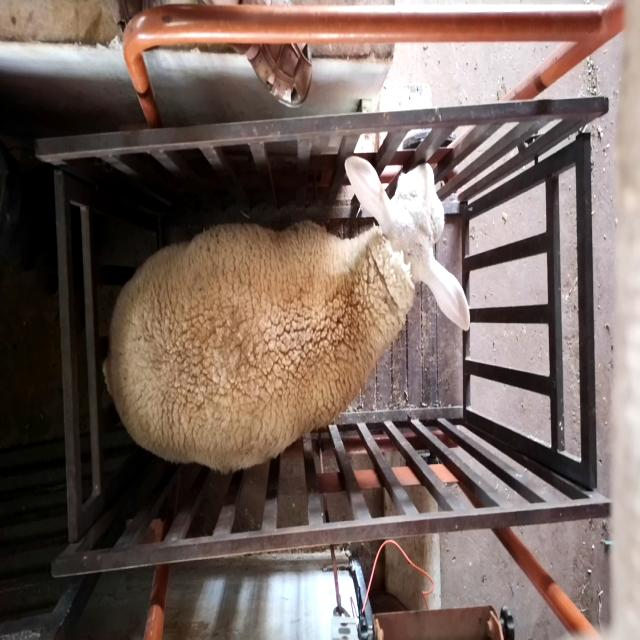sheep: (101, 156, 471, 474)
